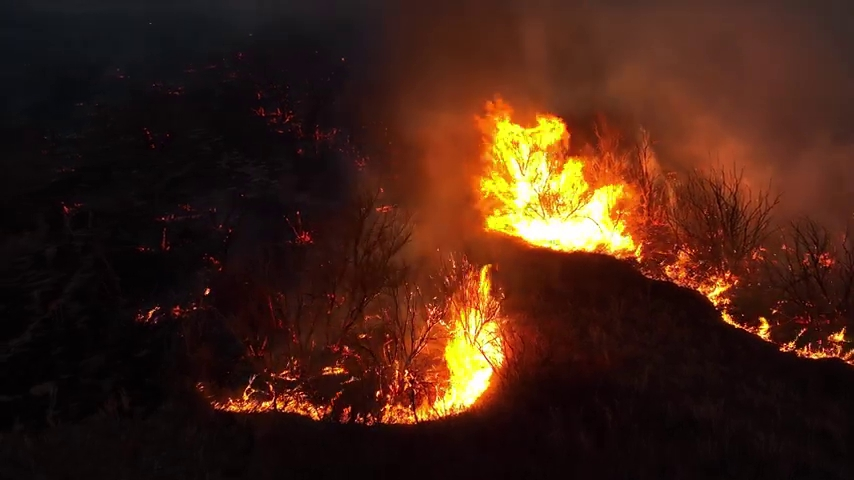forest_fire: (480, 104, 640, 257), (664, 253, 853, 363), (377, 265, 504, 423), (214, 375, 330, 419)
